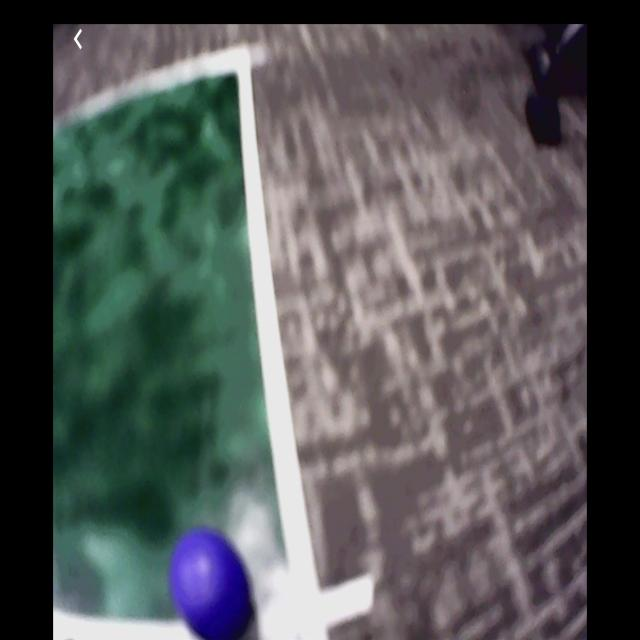ball: (170, 528, 254, 640)
